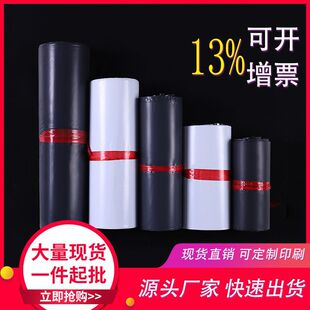Parcel: (39, 42, 271, 231)
